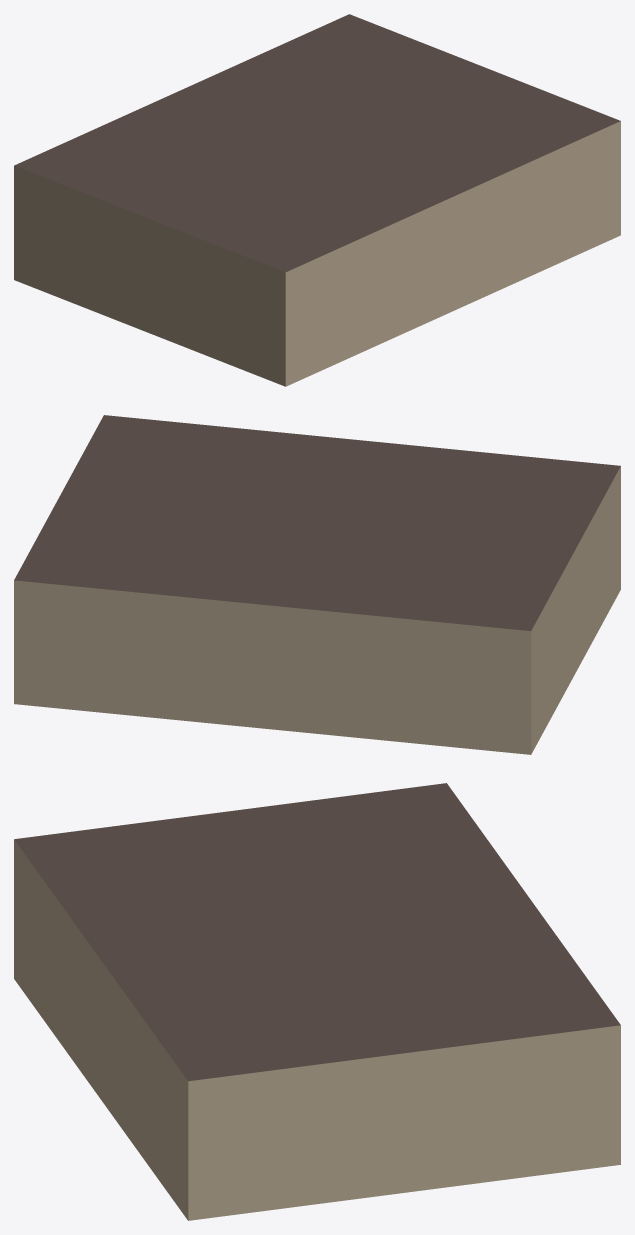
3 renders of one model, top to bottom at view 1: azimuth 30°, elevation 25°; view 2: azimuth 150°, elevation 25°; view 3: azimuth 270°, elevation 25°, orthographic. The views are drawn at different scales.
Parts seen in each view (by area): view 1: HP-w858839013; view 2: HP-w858839013; view 3: HP-w858839013.
Part boxes in pixels (<box>): HP-w858839013: <box>14,14,620,386</box>; HP-w858839013: <box>14,415,620,754</box>; HP-w858839013: <box>14,783,620,1220</box>.
Bounding box in the file's own units: 41.24 × 9 × 35.47.
